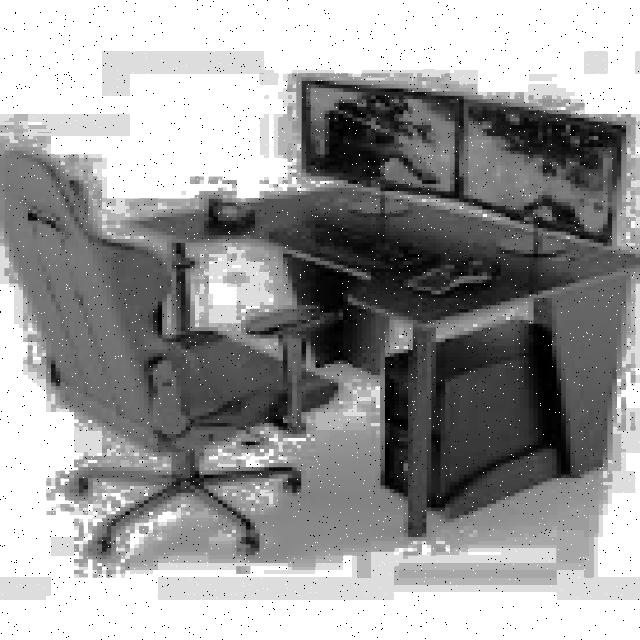book: (0, 147, 339, 556)
table: (125, 180, 640, 537)
